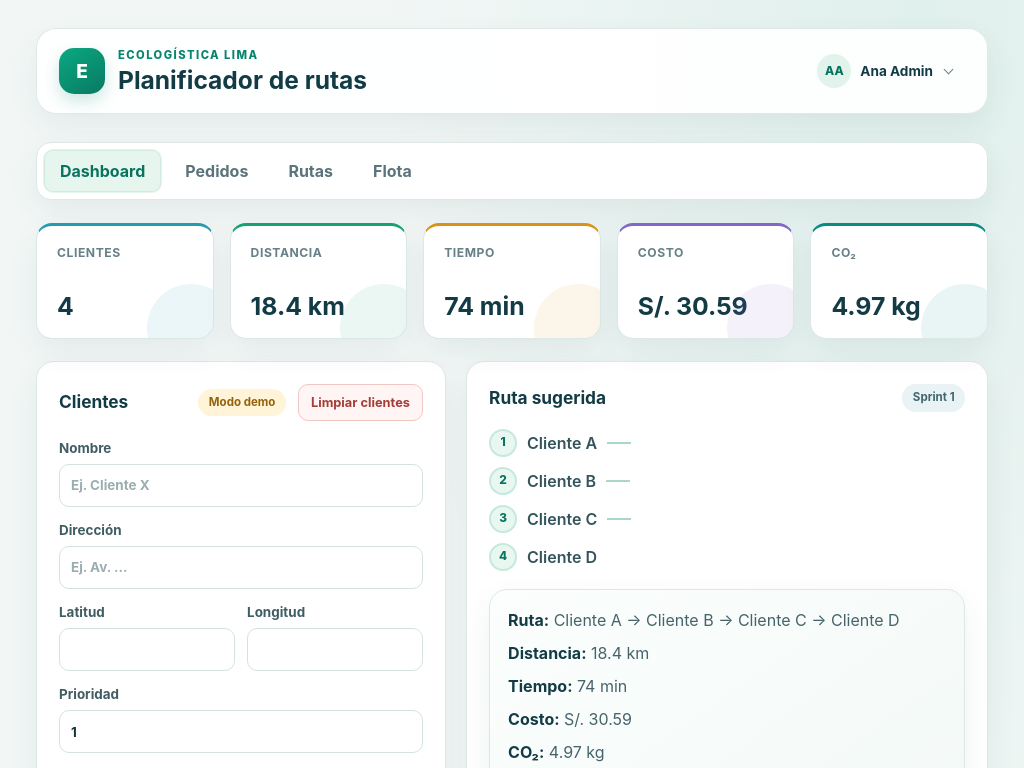
Test: Sesión guardada › al recargar valida el token y actualiza los datos del usuario
This screenshot has width=1024, height=768.
expect the heading "Planificador de rutas" is shown: met, box [118,66,367,95]
Click the button "Rutas". click: (311, 171)
box: [271,149,350,193]
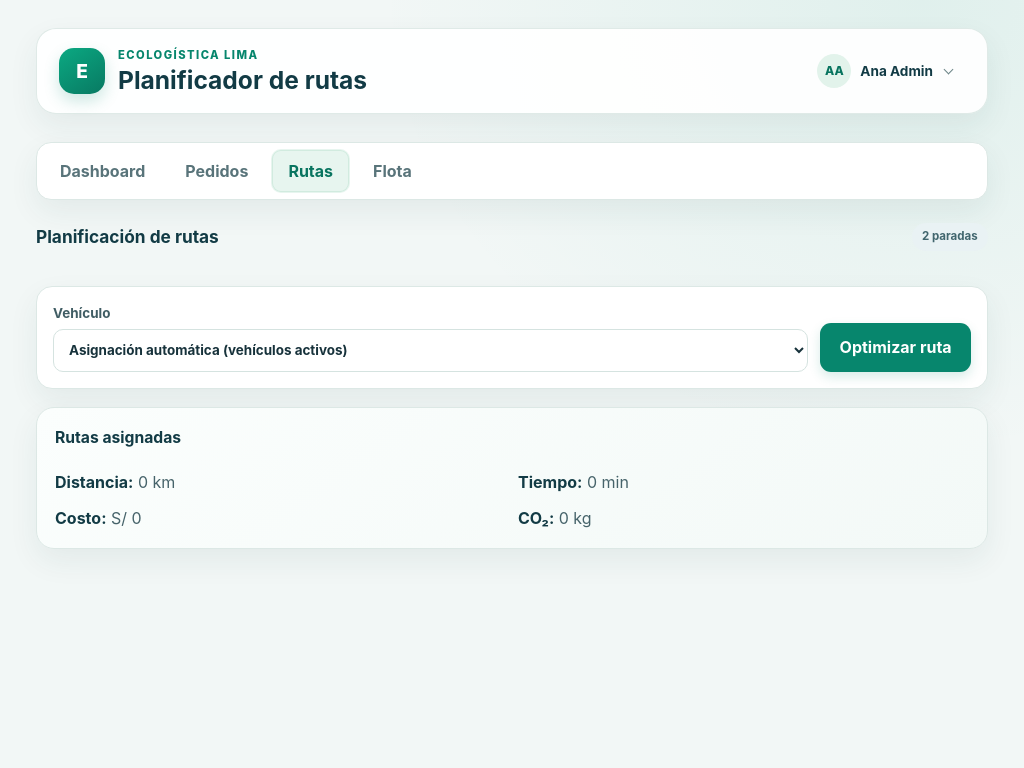
expect the heading "Planificación de rutas" is shown: met, box [36,224,219,250]
expect the button "Optimizar ruta" is shown: met, box [820,323,971,372]
